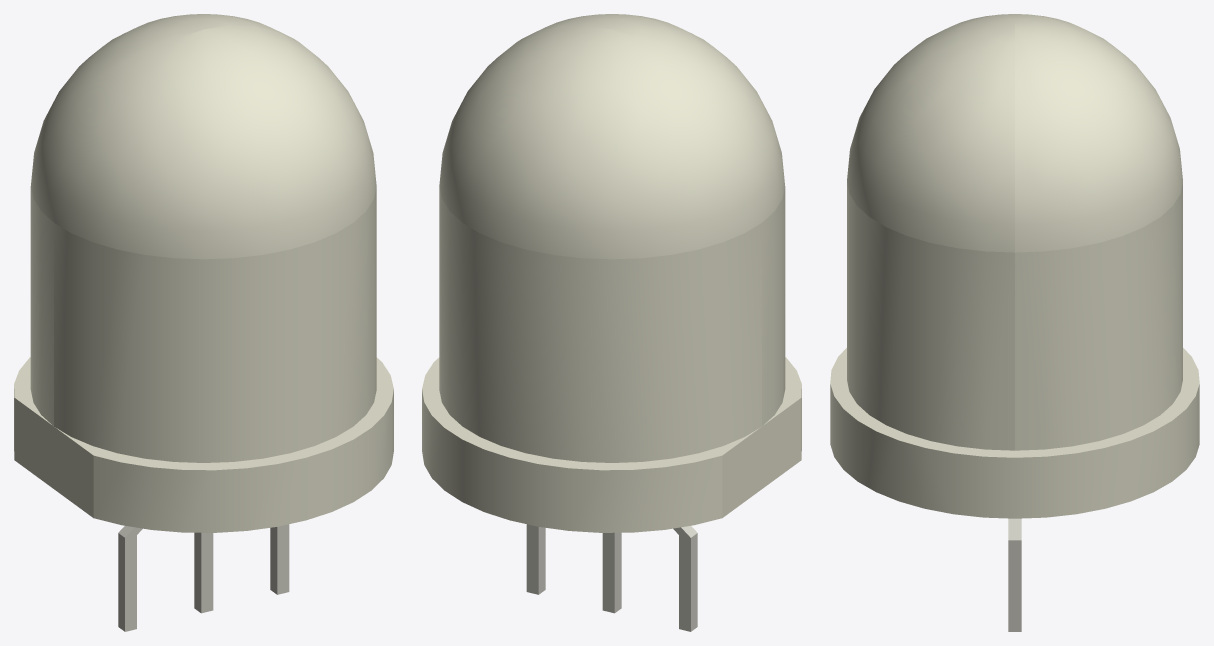
The model's file is kc-led_d10.0mm-3.glb.
3 views of the same model, side by side, from view 1: azimuth 30°, elevation 25°; view 2: azimuth 150°, elevation 25°; view 3: azimuth 270°, elevation 25° (orthographic). The views are drawn at different scales.
Parts seen in each view (by area): view 1: 0.75_0.75_0.6666666666666666_0, 0.6666666666666666_0.6666666666666666_0.5833333333333334_0.8; view 2: 0.75_0.75_0.6666666666666666_0, 0.6666666666666666_0.6666666666666666_0.5833333333333334_0.8; view 3: 0.75_0.75_0.6666666666666666_0, 0.6666666666666666_0.6666666666666666_0.5833333333333334_0.8.
Part boxes in pixels (bbox=[...]): 0.75_0.75_0.6666666666666666_0: bbox=[14, 14, 393, 532]; 0.6666666666666666_0.6666666666666666_0.5833333333333334_0.8: bbox=[118, 524, 289, 631]; 0.75_0.75_0.6666666666666666_0: bbox=[422, 14, 801, 532]; 0.6666666666666666_0.6666666666666666_0.5833333333333334_0.8: bbox=[526, 524, 697, 631]; 0.75_0.75_0.6666666666666666_0: bbox=[830, 14, 1199, 518]; 0.6666666666666666_0.6666666666666666_0.5833333333333334_0.8: bbox=[1008, 518, 1021, 631].
Size of the model in its own units: 1.05 by 1.85 by 1.1.
